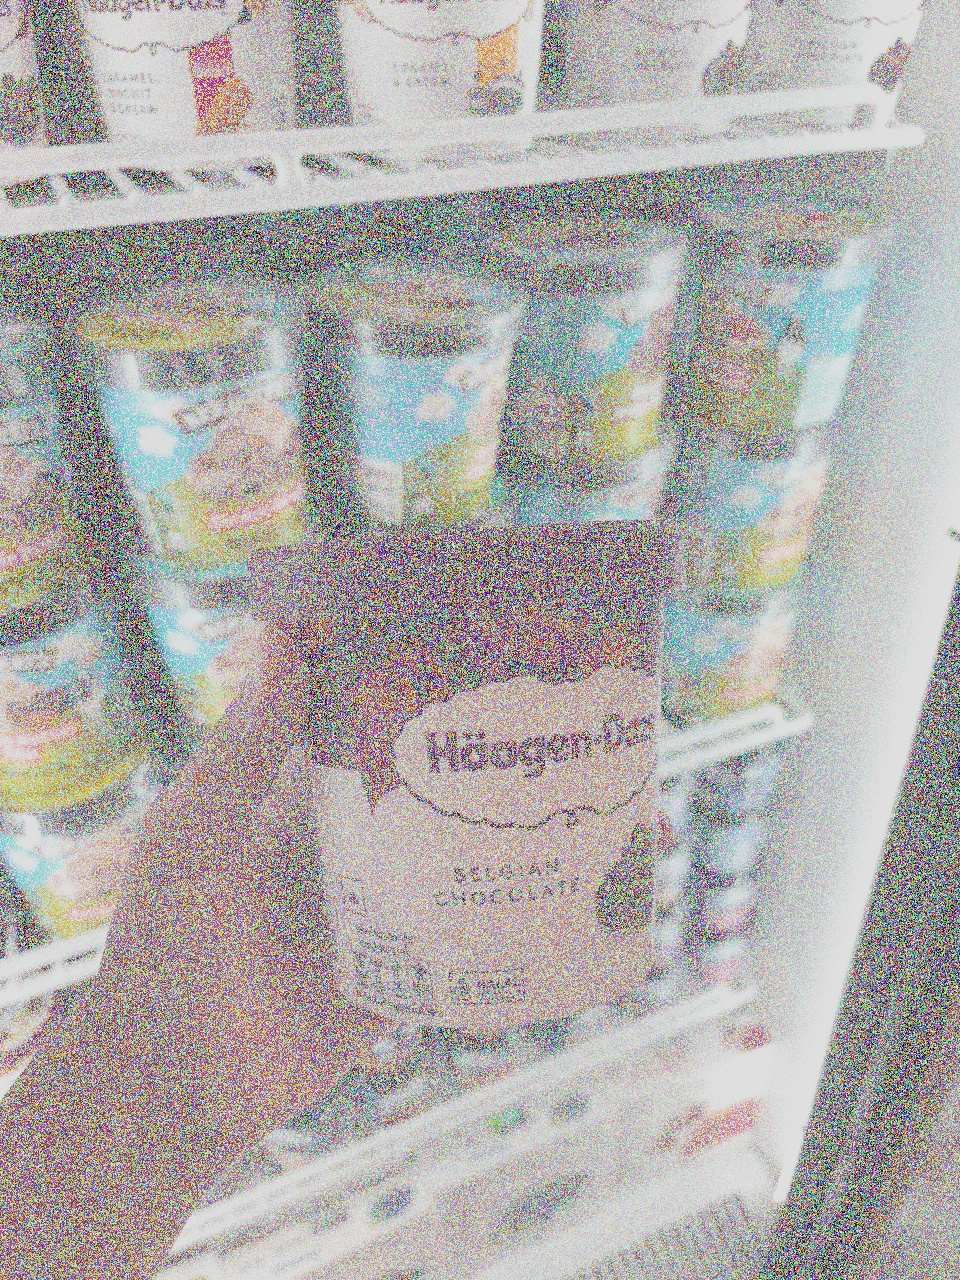Haagen-Dazs IceCream Tub: (230, 512, 705, 1033)
